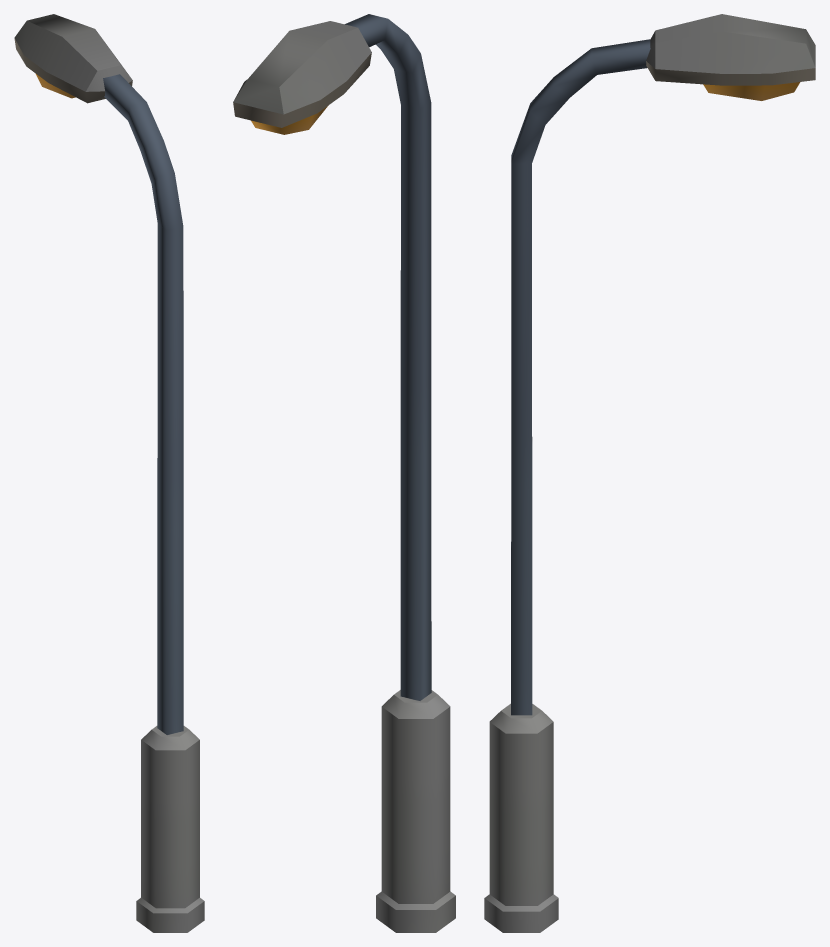
The model's file is Lights_5_A.fbx.
The picture shows the model from 3 angles, left to right: view 1: azimuth 30°, elevation 25°; view 2: azimuth 150°, elevation 25°; view 3: azimuth 270°, elevation 25°; orthographic projection. The views are drawn at different scales.
Visible parts, largest first — view 1: Lights_5_A; view 2: Lights_5_A; view 3: Lights_5_A.
Part boxes in pixels (<box>): Lights_5_A: <box>14,14,204,932</box>; Lights_5_A: <box>233,14,455,932</box>; Lights_5_A: <box>484,14,815,932</box>.
Size of the model in its own units: 35.36 by 423 by 142.
